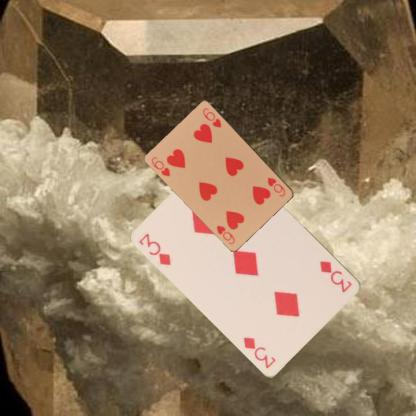3d: (136, 230, 173, 267), (317, 258, 354, 294)
6h: (149, 154, 172, 178), (265, 175, 287, 198)
